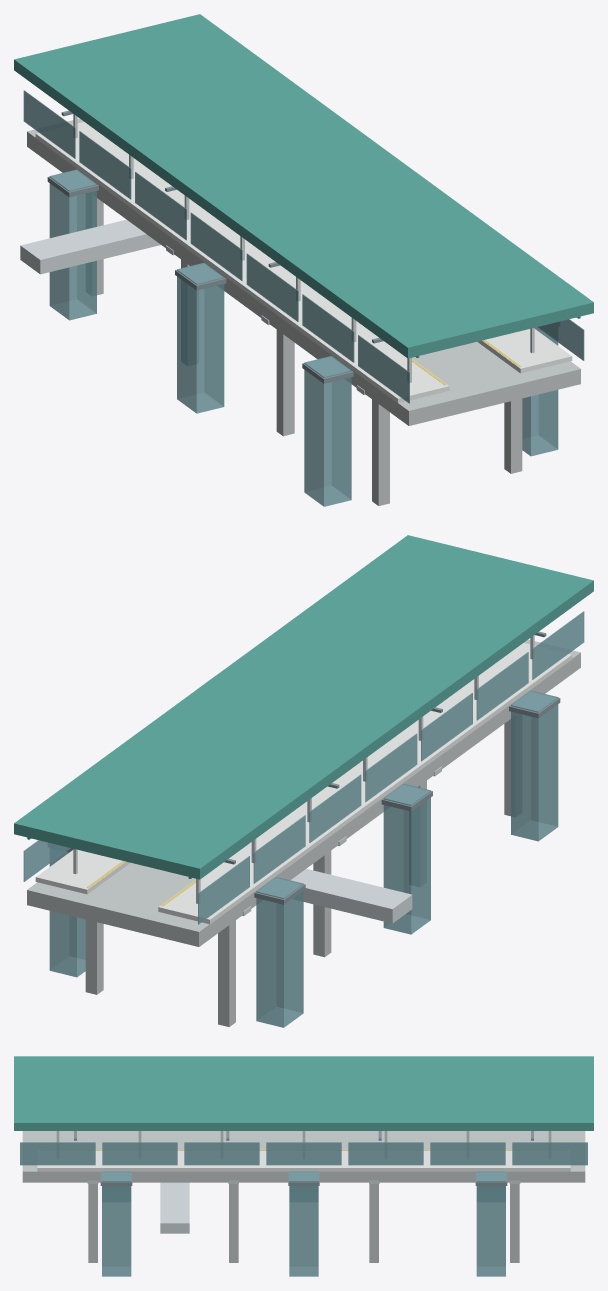
The model's file is mrt6-station-concept.gltf.
3 views of the same model, one above another, from view 1: azimuth 30°, elevation 25°; view 2: azimuth 150°, elevation 25°; view 3: azimuth 270°, elevation 25° (orthographic). The views are drawn at different scales.
Visible parts, largest first — view 1: station-long-canopy, elevated-station-deck, side-platform--8.9, station-elevator-core--11.7-0, station-elevator-core--11.7-32, station-elevator-core--11.7--32, passenger-footbridge-to-left, side-platform-8.9, station-elevator-core-11.7-32, support-pier--9.6-12, support-pier--9.6-36, glass-panel--8.9--28 (+11 smaller); view 2: station-long-canopy, elevated-station-deck, side-platform--8.9, station-elevator-core--11.7--32, station-elevator-core--11.7-32, station-elevator-core--11.7-0, passenger-footbridge-to-left, side-platform-8.9, station-elevator-core-11.7--32, support-pier--9.6--36, glass-panel--8.9-28, glass-panel--8.9--28 (+12 smaller); view 3: station-long-canopy, elevated-station-deck, side-platform-8.9, station-elevator-core-11.7--32, station-elevator-core-11.7-0, station-elevator-core-11.7-32, glass-panel-8.9--42, glass-panel-8.9--28, glass-panel-8.9--14, glass-panel-8.9-0, glass-panel-8.9-14, glass-panel-8.9-28 (+9 smaller).
Part boxes in pixels (x1,y1,x2,y2): station-long-canopy: [14, 14, 593, 358]; elevated-station-deck: [27, 118, 580, 425]; side-platform--8.9: [35, 122, 449, 403]; station-elevator-core--11.7-0: [177, 262, 224, 413]; station-elevator-core--11.7-32: [304, 356, 351, 506]; station-elevator-core--11.7--32: [49, 169, 96, 320]; passenger-footbridge-to-left: [20, 219, 160, 274]; side-platform-8.9: [477, 329, 572, 373]; station-elevator-core-11.7-32: [522, 330, 558, 456]; support-pier--9.6-12: [276, 330, 294, 436]; support-pier--9.6-36: [372, 399, 389, 505]; glass-panel--8.9--28: [79, 131, 131, 199]; station-long-canopy: [14, 535, 593, 879]; elevated-station-deck: [27, 639, 580, 946]; side-platform--8.9: [158, 643, 572, 924]; station-elevator-core--11.7--32: [256, 877, 303, 1027]; station-elevator-core--11.7-32: [511, 690, 558, 841]; station-elevator-core--11.7-0: [383, 783, 430, 934]; passenger-footbridge-to-left: [290, 868, 412, 923]; side-platform-8.9: [35, 850, 130, 894]; station-elevator-core-11.7--32: [49, 851, 85, 977]; support-pier--9.6--36: [218, 920, 235, 1026]; glass-panel--8.9-28: [476, 652, 528, 720]; glass-panel--8.9--28: [253, 815, 305, 883]; station-long-canopy: [14, 1056, 593, 1130]; elevated-station-deck: [22, 1131, 585, 1182]; side-platform-8.9: [37, 1150, 570, 1171]; station-elevator-core-11.7--32: [476, 1171, 505, 1276]; station-elevator-core-11.7-0: [289, 1171, 318, 1276]; station-elevator-core-11.7-32: [102, 1171, 131, 1276]; glass-panel-8.9--42: [512, 1142, 587, 1165]; glass-panel-8.9--28: [430, 1142, 505, 1165]; glass-panel-8.9--14: [348, 1142, 423, 1165]; glass-panel-8.9-0: [266, 1142, 341, 1165]; glass-panel-8.9-14: [184, 1142, 259, 1165]; glass-panel-8.9-28: [102, 1142, 177, 1165].
Size of the model in its own units: 54 by 27.8 by 99.
